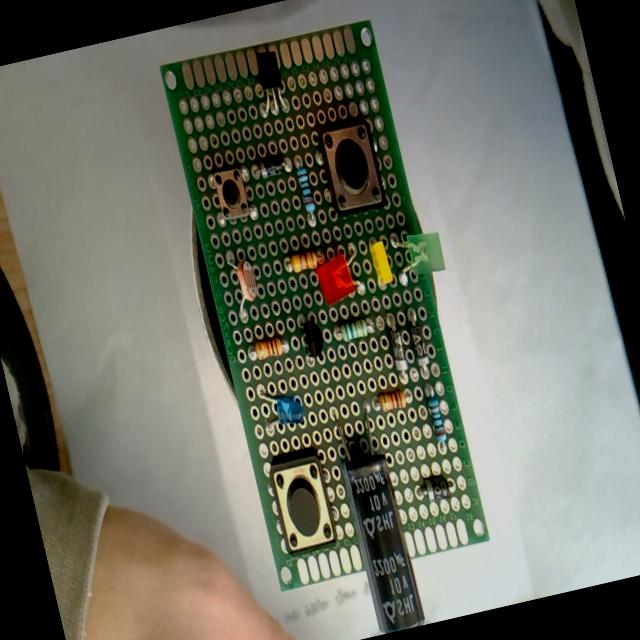Electrolytic capacitor: (324, 395, 426, 635)
cds: (221, 248, 268, 324)
diode: (414, 473, 454, 503), (255, 150, 292, 179)
led: (310, 240, 369, 312), (390, 224, 450, 281), (253, 378, 309, 432), (368, 238, 394, 286)
resistor: (325, 306, 380, 358), (294, 163, 320, 225), (426, 394, 449, 447), (286, 248, 322, 274), (252, 334, 288, 360), (377, 388, 408, 412)
switch: (266, 452, 338, 556), (314, 117, 388, 218), (210, 165, 252, 224)
transistor: (240, 50, 304, 128), (289, 311, 327, 372)
